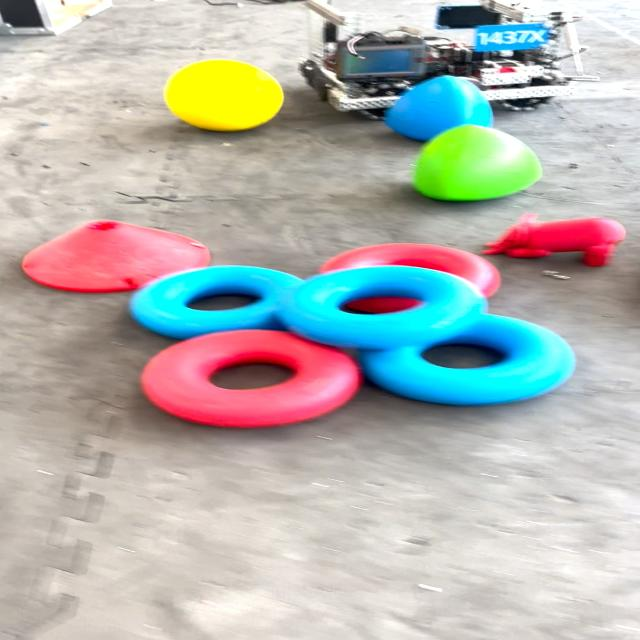Blue-Ring: (360, 315, 576, 405), (280, 265, 487, 349), (131, 265, 304, 339)
Red-Ring: (140, 330, 360, 428), (319, 244, 500, 298)
